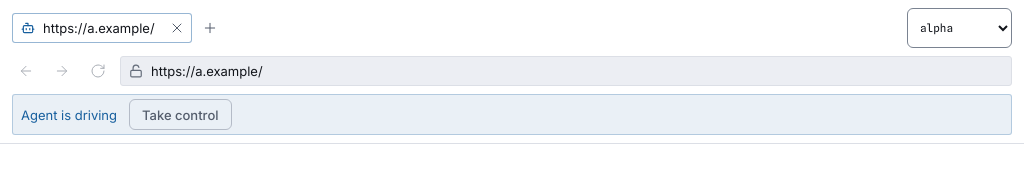
Test case: BrowserPage › agent tabs › cannot revive a detached agent tab after a process failure
Click the button "Take control" at (180, 115), box [129,99,232,130]
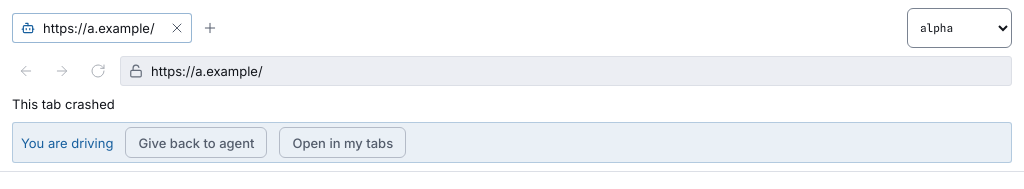
Check: the button named "Reload" is disabled, box [84,57,112,85]
Check: the text "You are driving" is shown, box [21,133,113,153]
Check: the text "This tab crashed" is shown, box [12,94,115,114]
